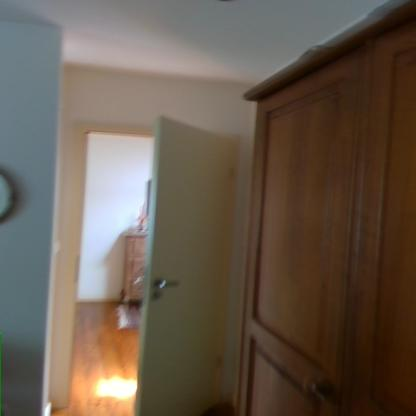semi: (58, 110, 252, 415)
